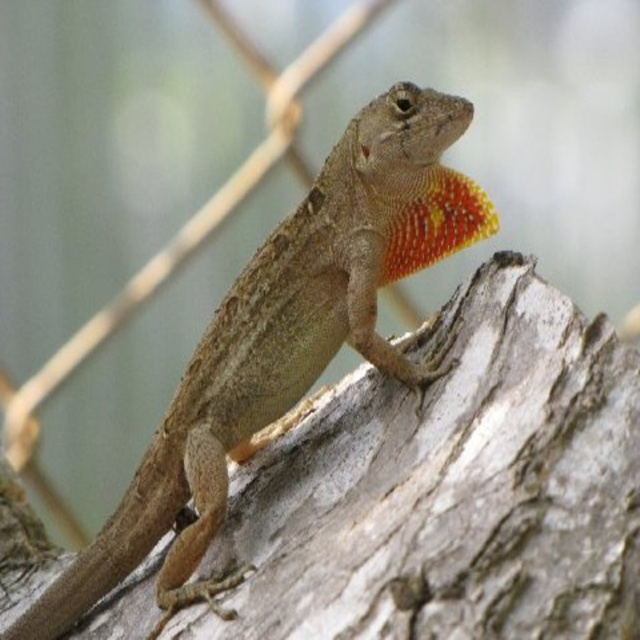Lizard: (120, 206, 460, 622)
